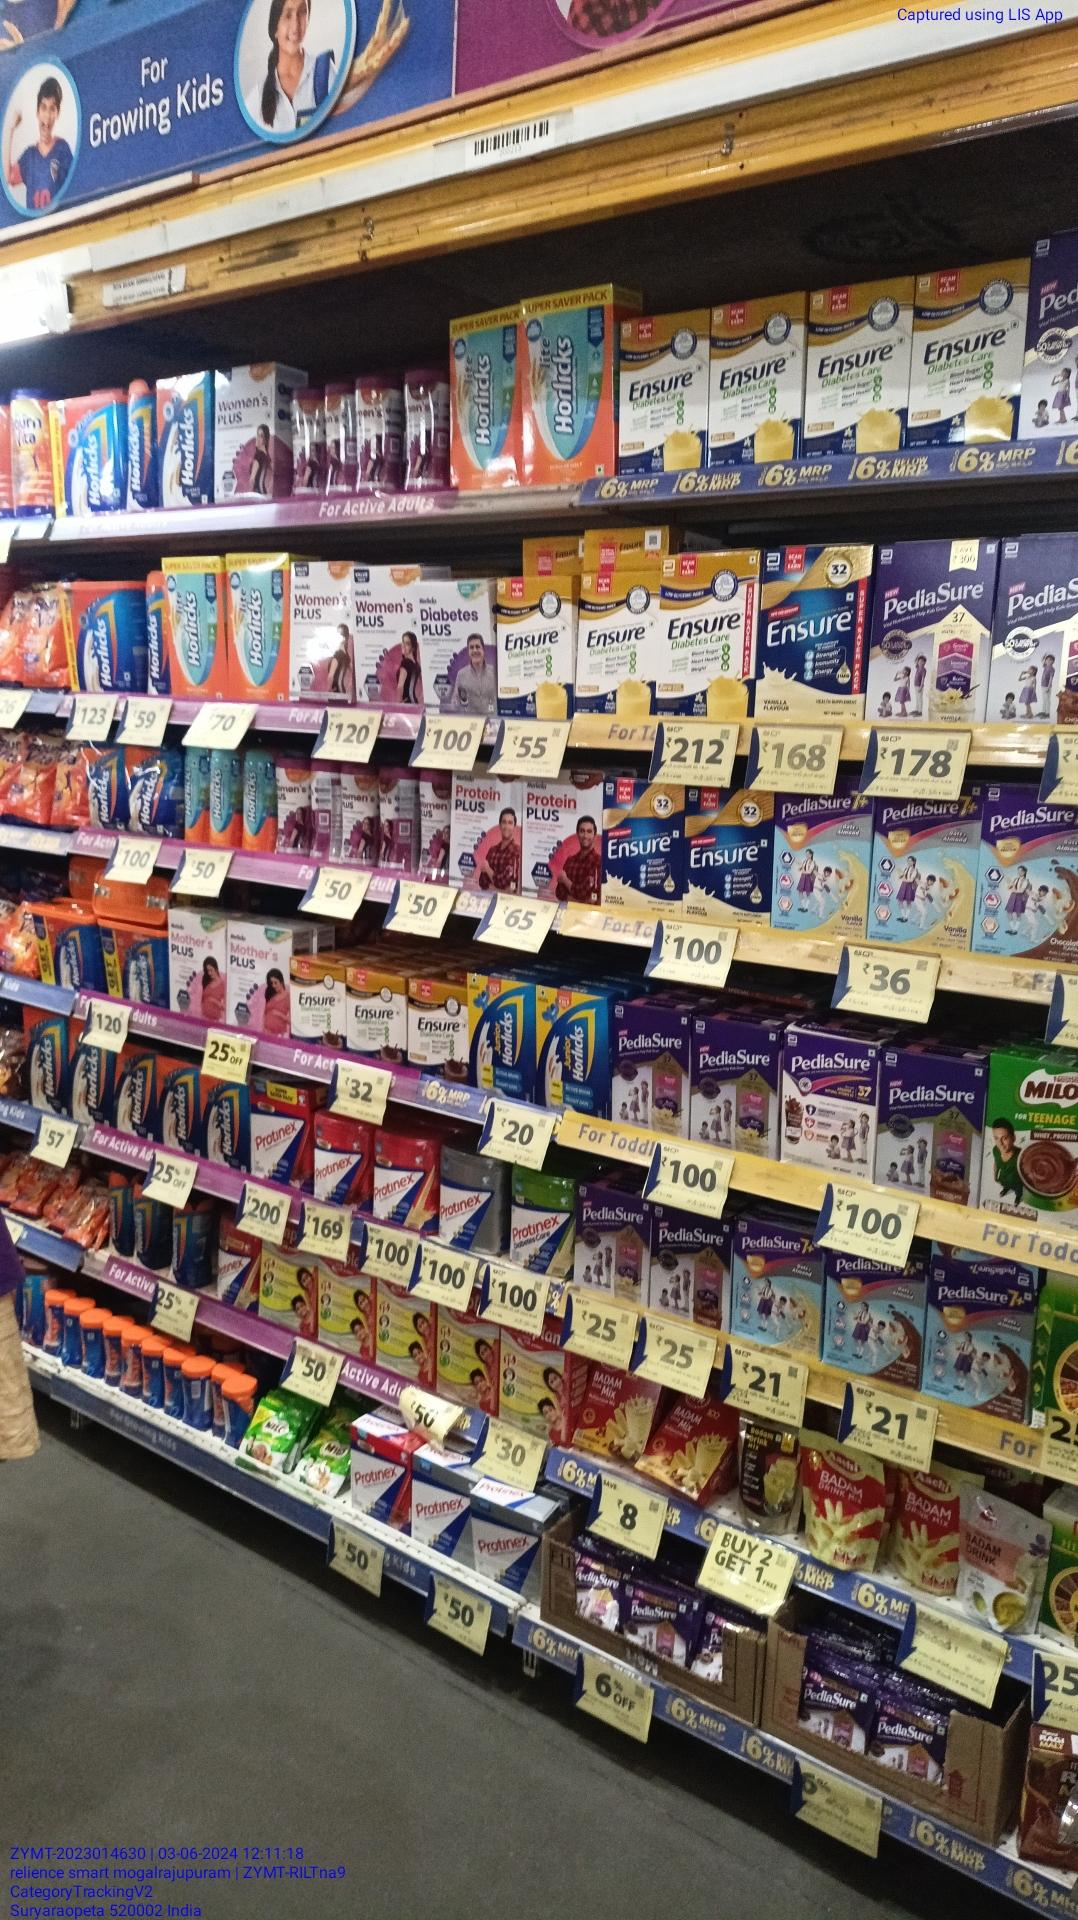ENSURE_VANILLA_400_G_PACK: (764, 546, 866, 729), (689, 789, 772, 927), (603, 779, 686, 914)
HORLICKS_LITE_REGULAR_MALT_500_GM_JAR: (243, 748, 276, 852), (208, 749, 240, 847), (185, 744, 206, 844)
PEDIASURE_7_PLUS_CHOCOLATE_400_G_PACK: (983, 785, 1078, 963)
PEDIASURE_VANILLA_500_G_PACK: (873, 547, 998, 729)
PROTINEX_CHOCOLATE_400_G_JAR: (311, 1117, 369, 1211)
PROTINEX_ORIGINAL_400_G_JAR: (442, 1143, 504, 1253)
PROTINEX_VANILLA_400_G_JAR: (373, 1130, 438, 1228)
